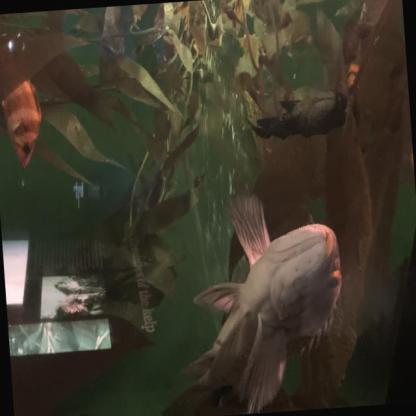fish: (144, 184, 352, 415), (0, 11, 46, 172), (280, 94, 348, 132)
